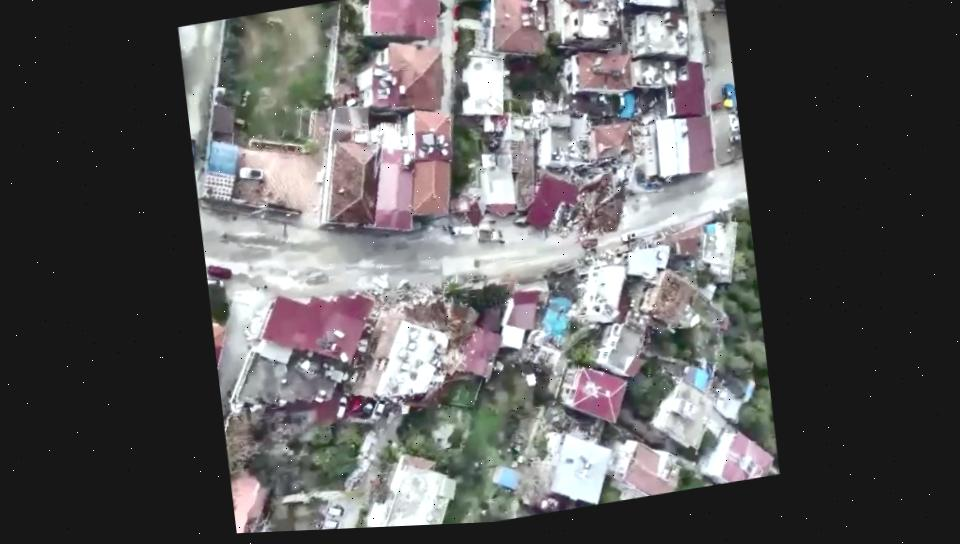kapali: (507, 193, 646, 284)
